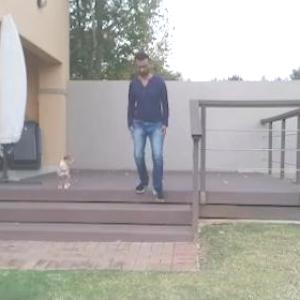follow: (133, 50, 171, 202)
